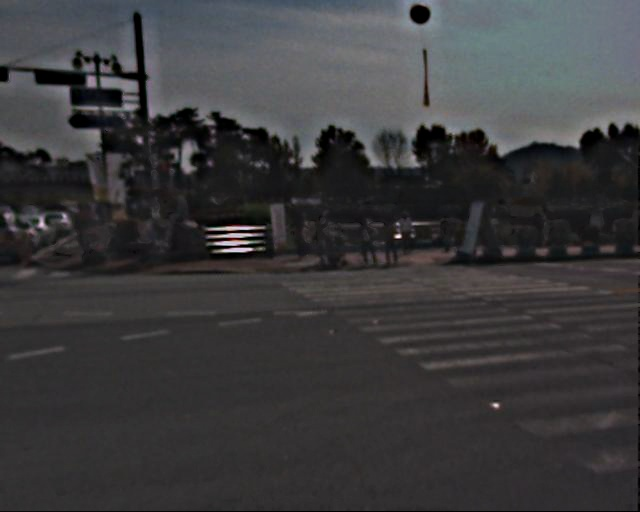person: (73, 202, 116, 263), (141, 205, 169, 264), (314, 208, 338, 266), (385, 214, 407, 267), (295, 209, 316, 259), (357, 218, 378, 268), (399, 205, 420, 255)
